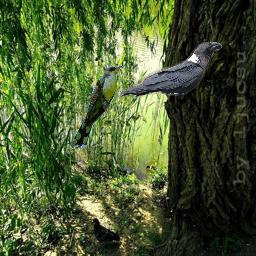Crow: (119, 42, 222, 98)
Cuckoo: (73, 66, 123, 148)
